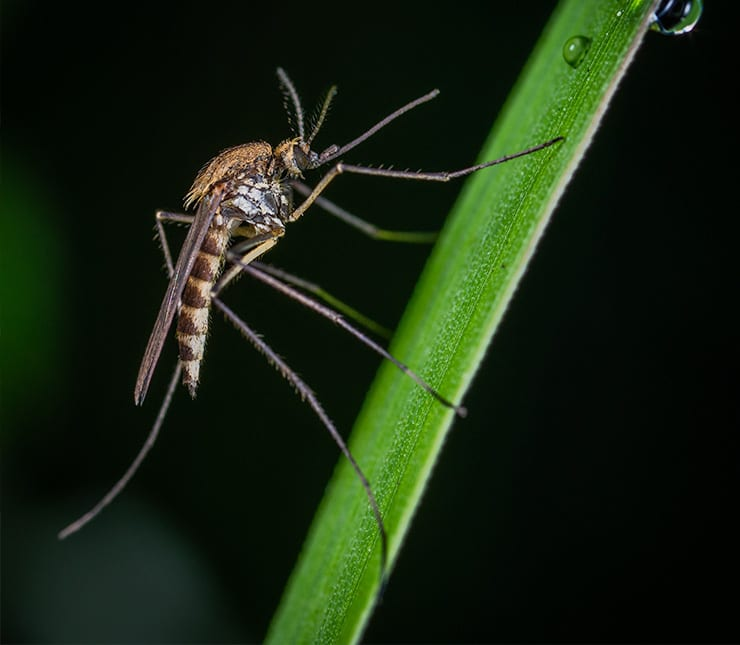mosquito: (76, 49, 578, 531)
